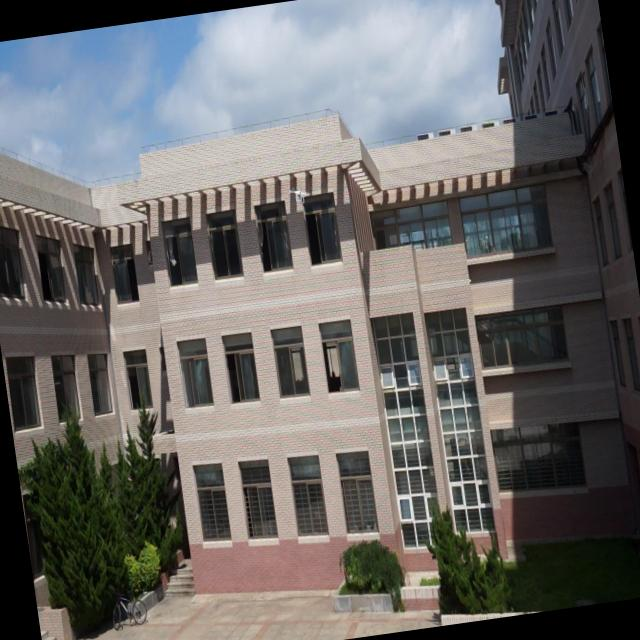drone: (292, 184, 312, 210)
